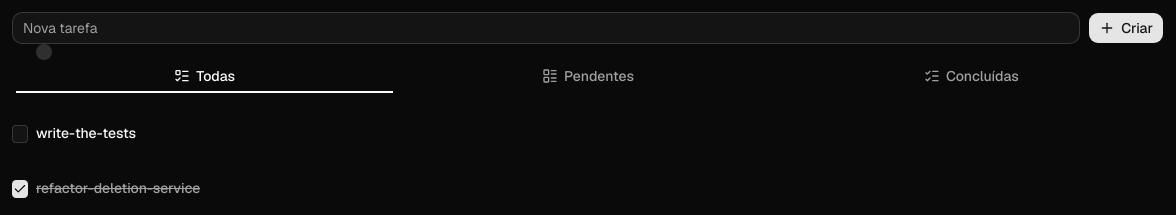
it: TaskContainer › should filter the tasks by tab
Expected: the text "write-the-tests" is shown, [36,124,136,143]
Expected: the text "refactor-deletion-service" is shown, [36,179,200,199]
What coordinates should you click on to do the following:
click the tab "Pendentes"
I would click on:
 (588, 76)
Its box is [398,64,778,88].
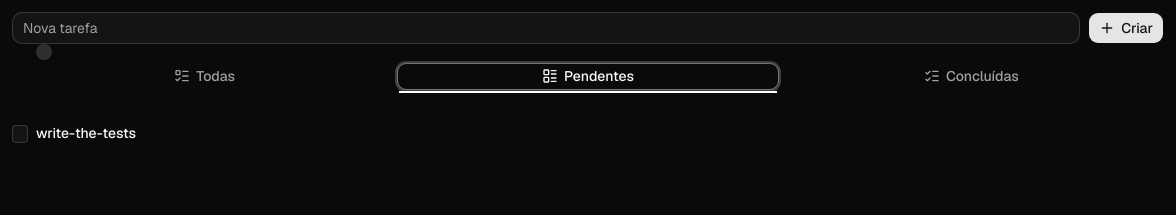
Expected: the text "write-the-tests" is shown, [36,124,136,143]
Result: the text "refactor-deletion-service" is gone
What coordinates should you click on to do the following:
click the tab "Concluídas"
I would click on:
 (971, 76)
Its box is [782,64,1161,88].
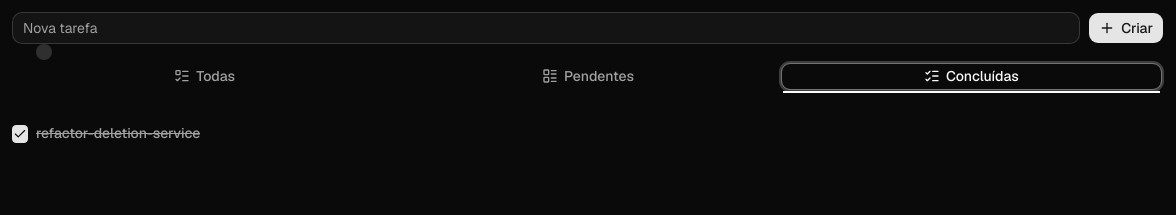
Result: the text "write-the-tests" is gone
Result: the text "refactor-deletion-service" is shown at [36,124,200,143]
